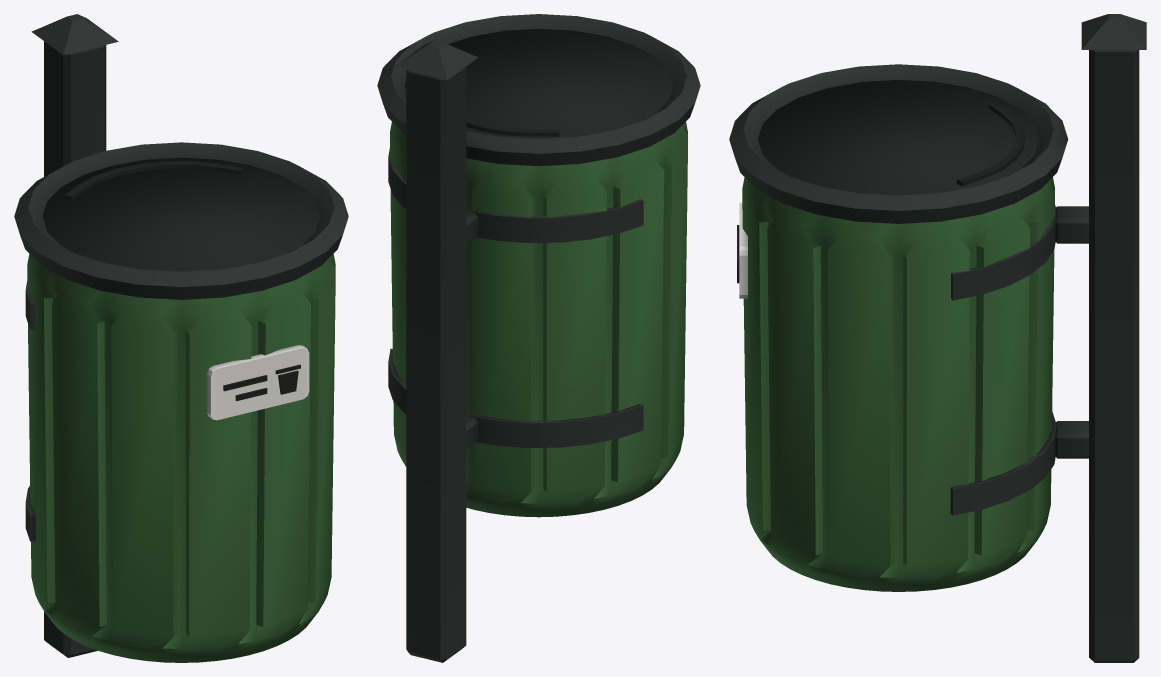
The model's file is litterBin.glb.
3 renders of one model, left to right at view 1: azimuth 30°, elevation 25°; view 2: azimuth 150°, elevation 25°; view 3: azimuth 270°, elevation 25°, orthographic. The views are drawn at different scales.
Parts seen in each view (by area): view 1: litterBin; view 2: litterBin; view 3: litterBin.
Boxes of the visible parts, x1=… form: litterBin: x1=14, y1=14, x2=348, y2=662; litterBin: x1=377, y1=14, x2=700, y2=662; litterBin: x1=729, y1=14, x2=1146, y2=662.
Bounding box in the file's own units: 0.4719 × 0.98 × 0.5812.
